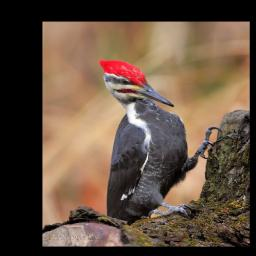Woodpecker: (99, 58, 223, 224)
